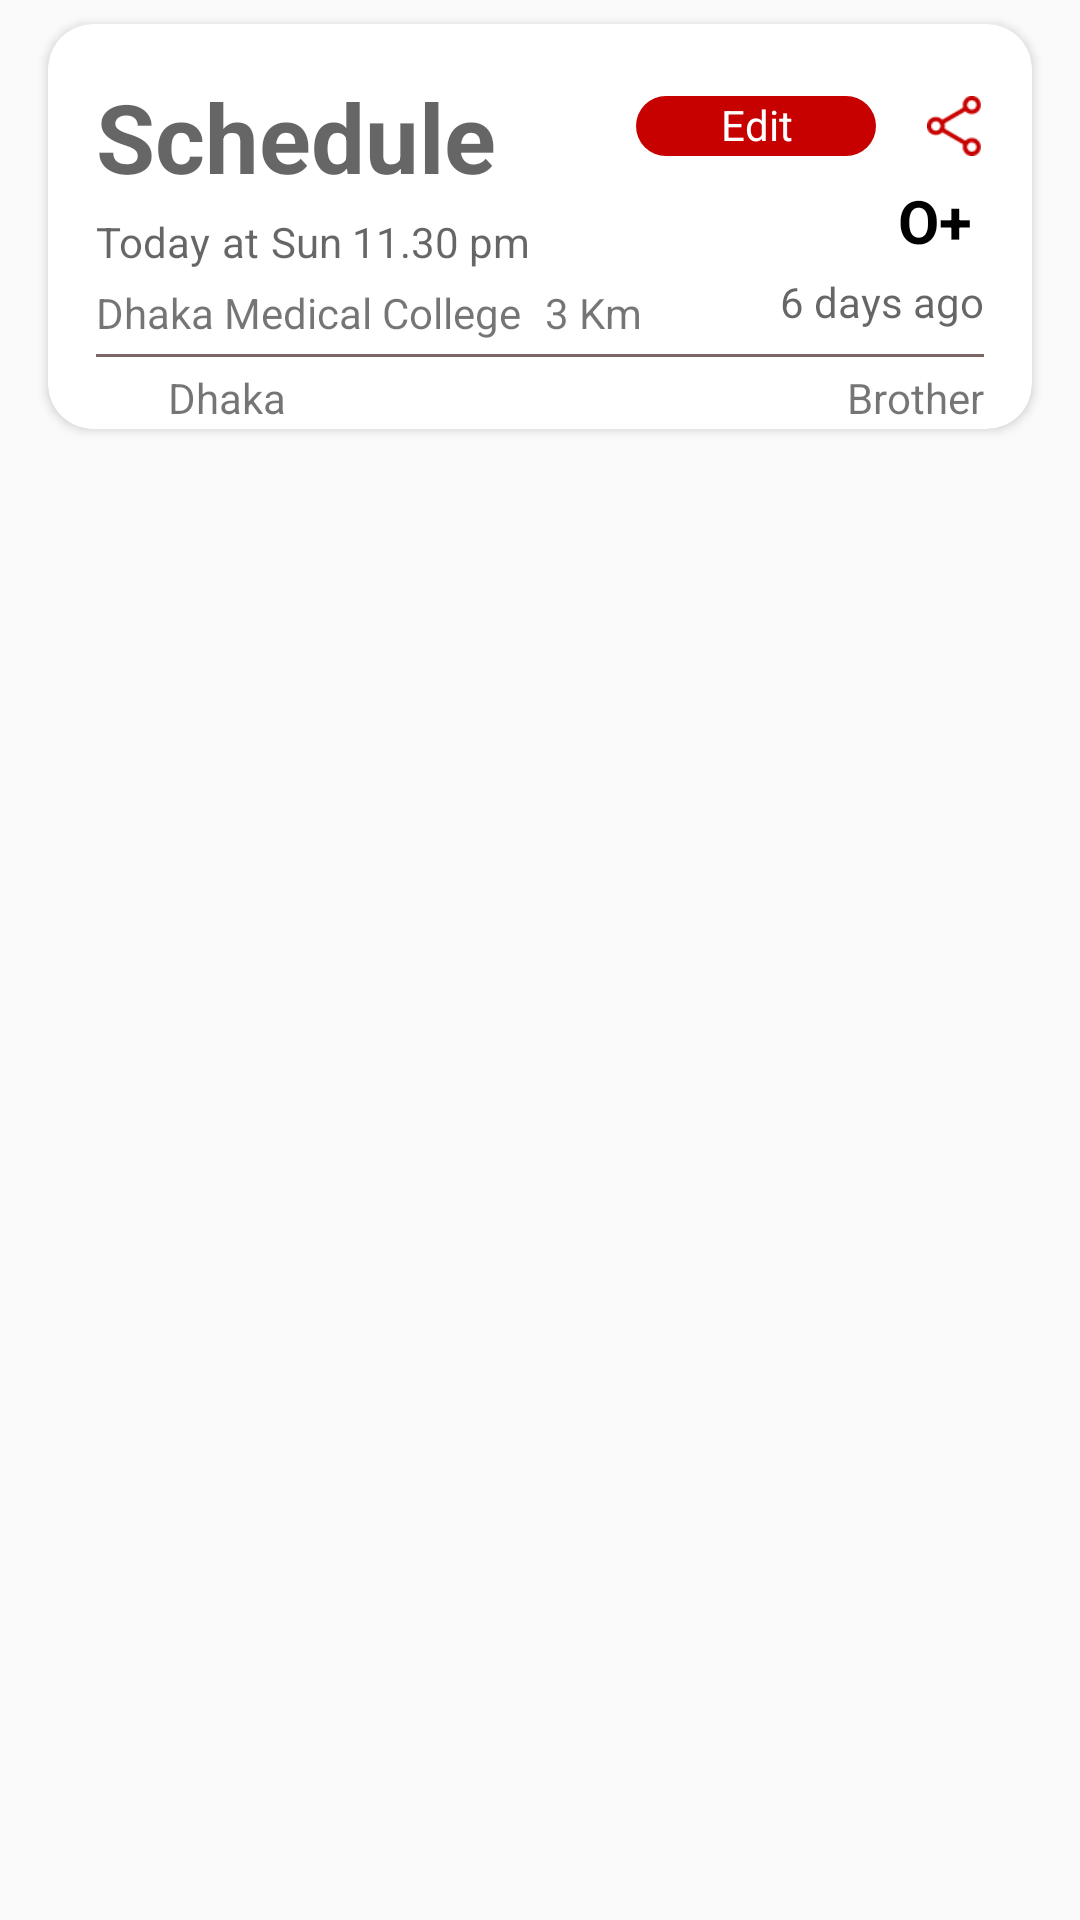

Screen size 1080 × 1920. Icon name, then its box in pixels as {"x1": x1, "y1": y1, "x2": x2, "y2": y2}:
share: {"x1": 927, "y1": 96, "x2": 981, "y2": 156}
